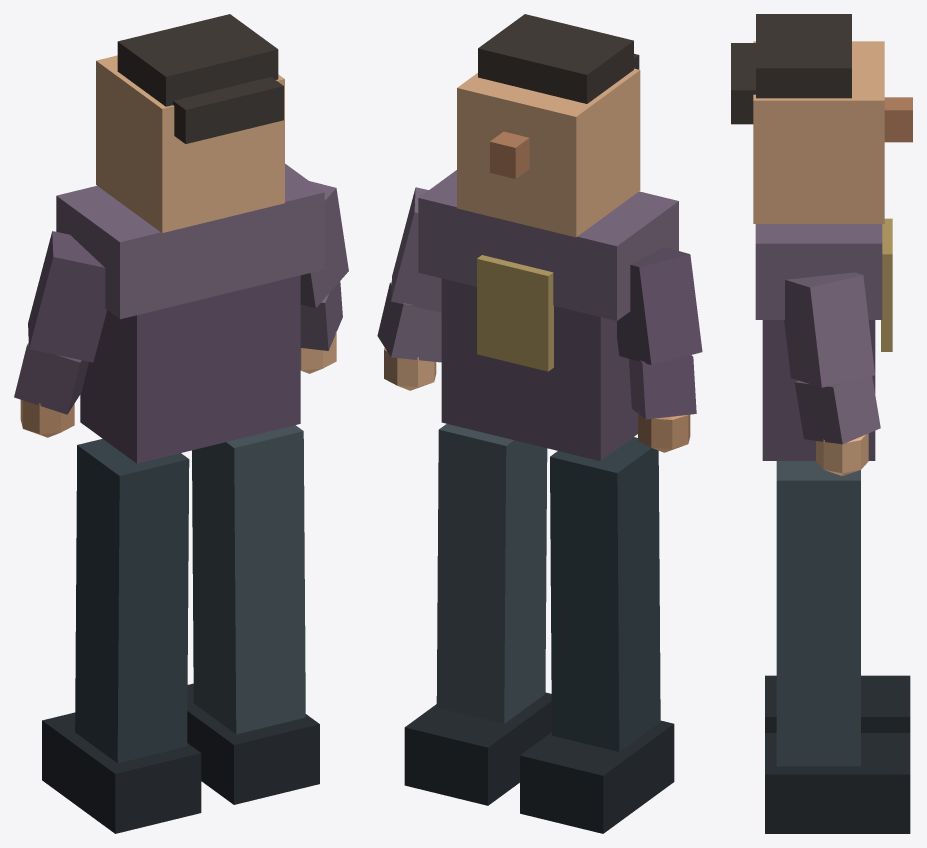
Rendered from lwf_performer_bassist_body_v1.glb.
The picture shows the model from 3 angles, left to right: view 1: azimuth 30°, elevation 25°; view 2: azimuth 150°, elevation 25°; view 3: azimuth 270°, elevation 25°; orthographic projection. The views are drawn at different scales.
Visible parts, largest first — view 1: LWF_Bassist_Body, LWF_Bassist_Hair, LWF_Bassist_IdleLeftArm, LWF_Bassist_IdleRightArm; view 2: LWF_Bassist_Body, LWF_Bassist_IdleLeftArm, LWF_Bassist_Hair, LWF_Bassist_IdleRightArm; view 3: LWF_Bassist_Body, LWF_Bassist_IdleRightArm, LWF_Bassist_Hair.
Boxes of the visible parts, <box> form: LWF_Bassist_Body: <box>42,55,324,833</box>; LWF_Bassist_Hair: <box>117,14,283,143</box>; LWF_Bassist_IdleLeftArm: <box>14,231,106,437</box>; LWF_Bassist_IdleRightArm: <box>300,181,348,373</box>; LWF_Bassist_Body: <box>404,68,678,833</box>; LWF_Bassist_IdleLeftArm: <box>617,247,702,452</box>; LWF_Bassist_Hair: <box>478,14,639,103</box>; LWF_Bassist_IdleRightArm: <box>377,187,441,390</box>; LWF_Bassist_Body: <box>753,41,912,833</box>; LWF_Bassist_IdleRightArm: <box>784,272,880,475</box>; LWF_Bassist_Hair: <box>731,14,851,124</box>.
Bounding box in the file's own units: 0.8041 × 1.75 × 0.388.
Materials: 1 (1 with a texture image).
